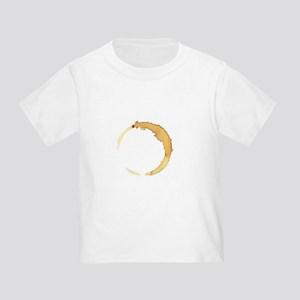gun: (113, 117, 173, 181)
